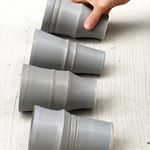cups: (14, 62, 100, 116), (24, 103, 116, 150), (26, 26, 107, 78)
